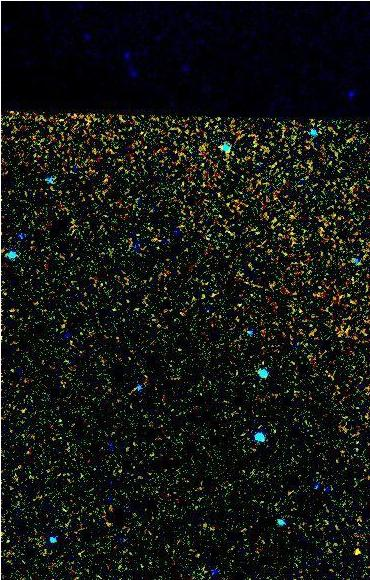star: (339, 534, 369, 564)
